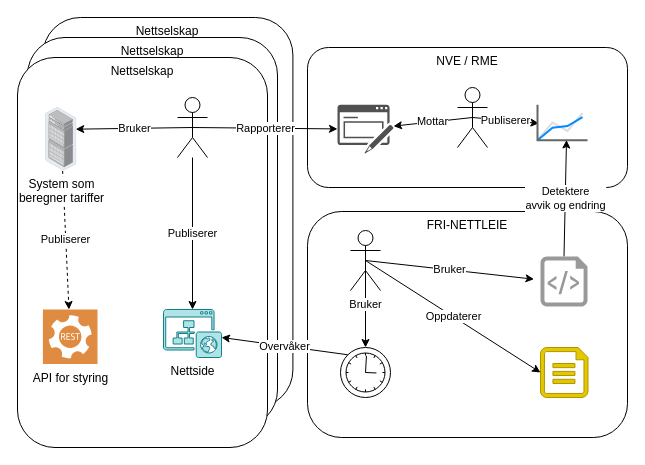
Image size: 645x465. Some labels were removed from this diagram. The centre of each missing label's shape, as x and y in pixels:
"ChangeDetection" goes at point 365,372.
"Skjema" goes at point 365,128.
"Statistikk" goes at point 562,122.
"Tariffer" goes at point 564,372.
